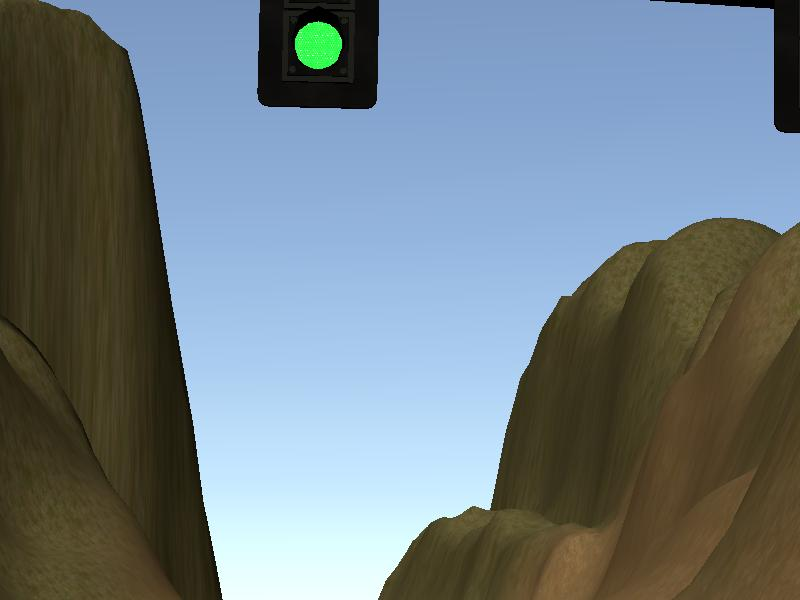not_red: (259, 5, 376, 105)
